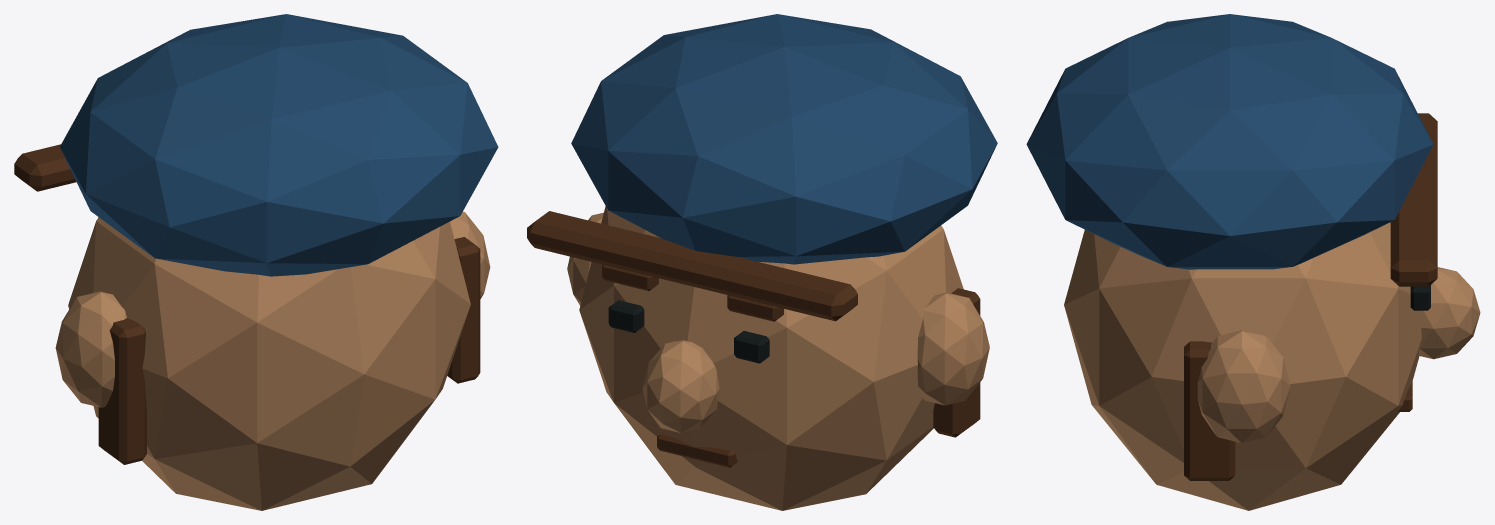
Rendered from Head.glb.
3 renders of one model, left to right at view 1: azimuth 30°, elevation 25°; view 2: azimuth 150°, elevation 25°; view 3: azimuth 270°, elevation 25°, orthographic. The views are drawn at different scales.
Visible parts, largest first — view 1: Sculpture; view 2: Sculpture; view 3: Sculpture.
Part boxes in pixels (x1,y1,x2,y2): Sculpture: (14,14,498,510); Sculpture: (527,14,997,510); Sculpture: (1026,14,1480,510).
Bounding box in the file's own units: 0.554 × 0.579 × 0.533.
